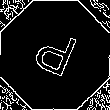P_SW: (28, 25, 82, 85)
